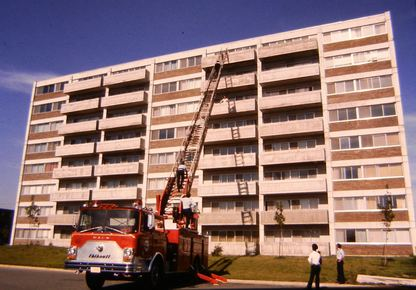truck: (61, 202, 199, 287)
